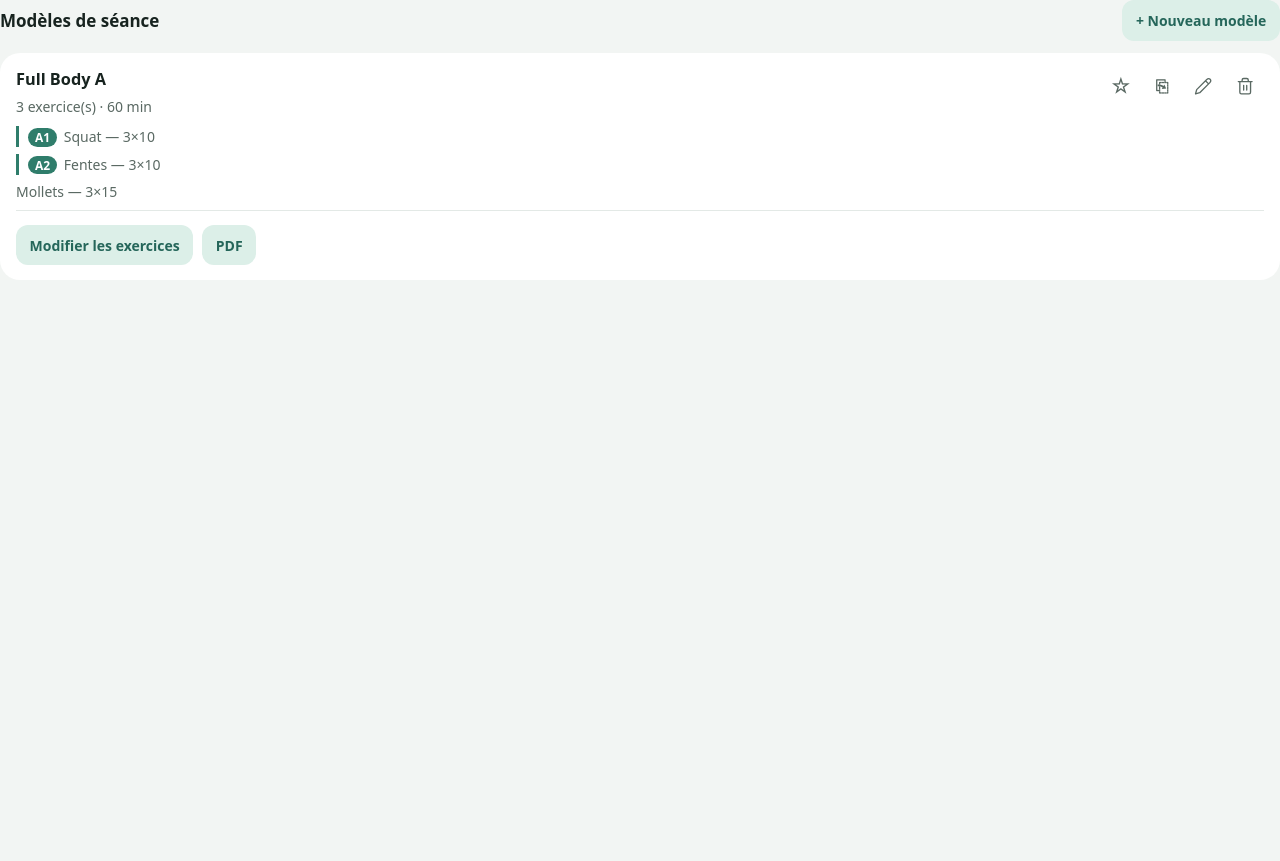
Test case: Modeles.tsx - Gestion des supersets dans l'éditeur › déplacer un exercice lié vers la dernière position réinitialise lie_suivant
Click the button named "Modifier Full Body A".
click(1204, 86)  # box x1=1185 y1=67 x2=1222 y2=105
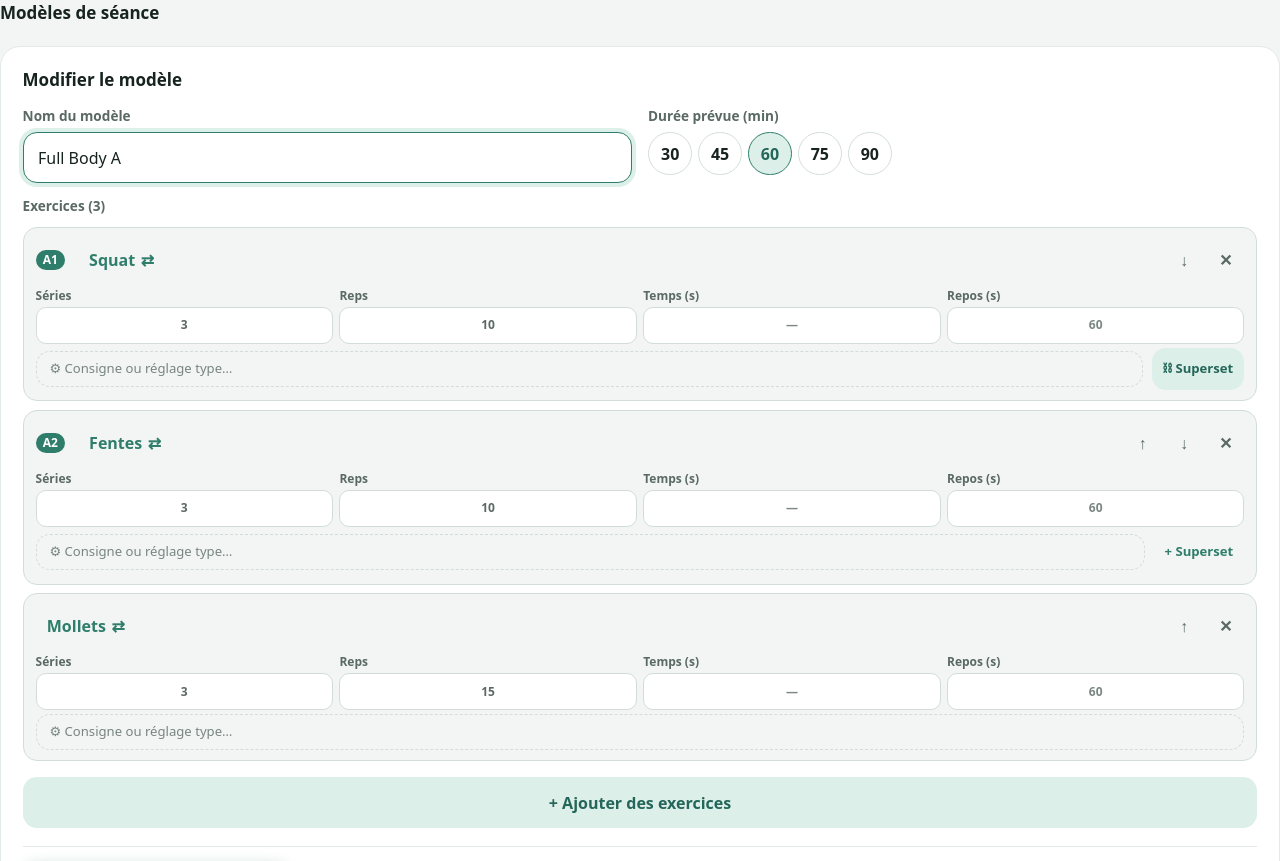
Note: Le premier bouton "Descendre" correspond à Squat (index 0)
Click the button named "Descendre".
click(1184, 260)  # box x1=1165 y1=241 x2=1203 y2=278
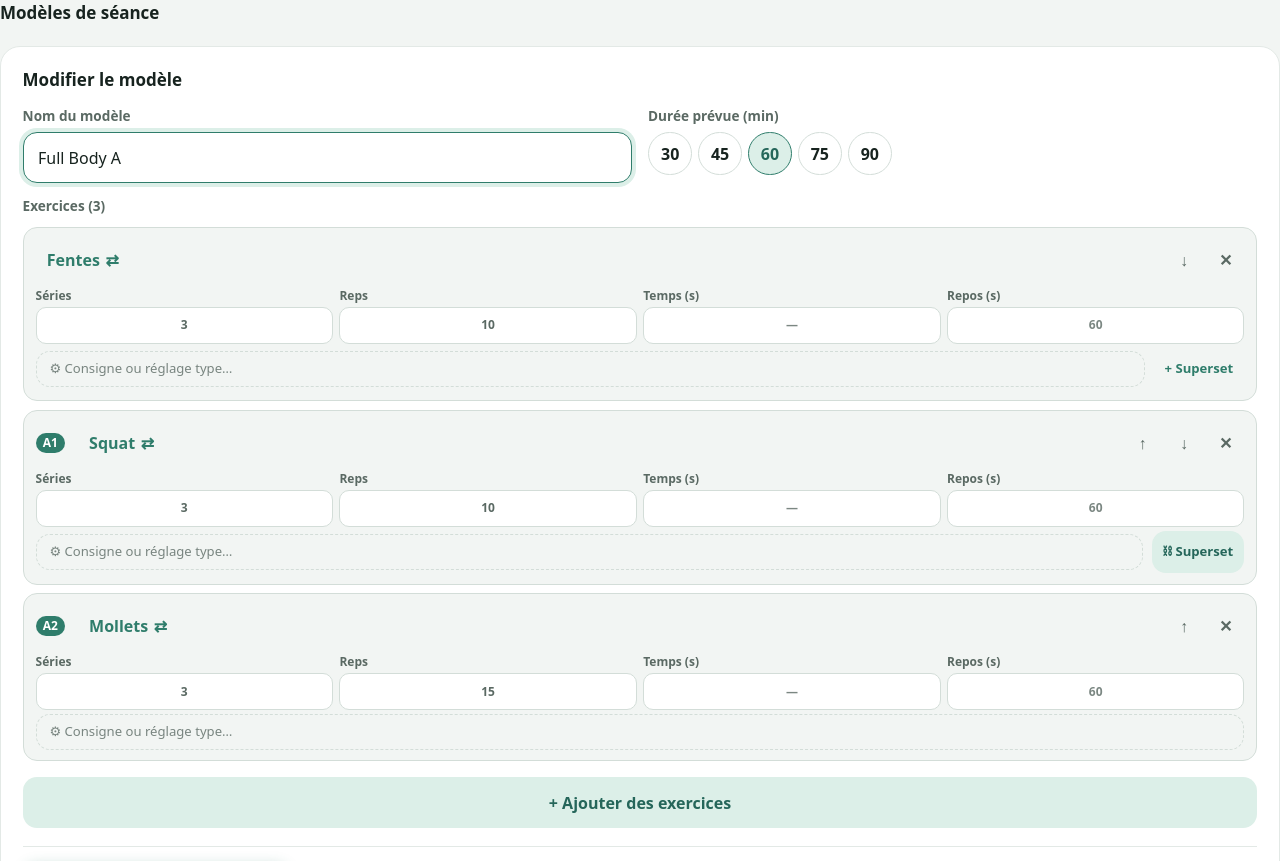
Note: À l'index 1, c'est Squat
Click the button named "Descendre".
click(1184, 443)  # box x1=1165 y1=424 x2=1203 y2=462
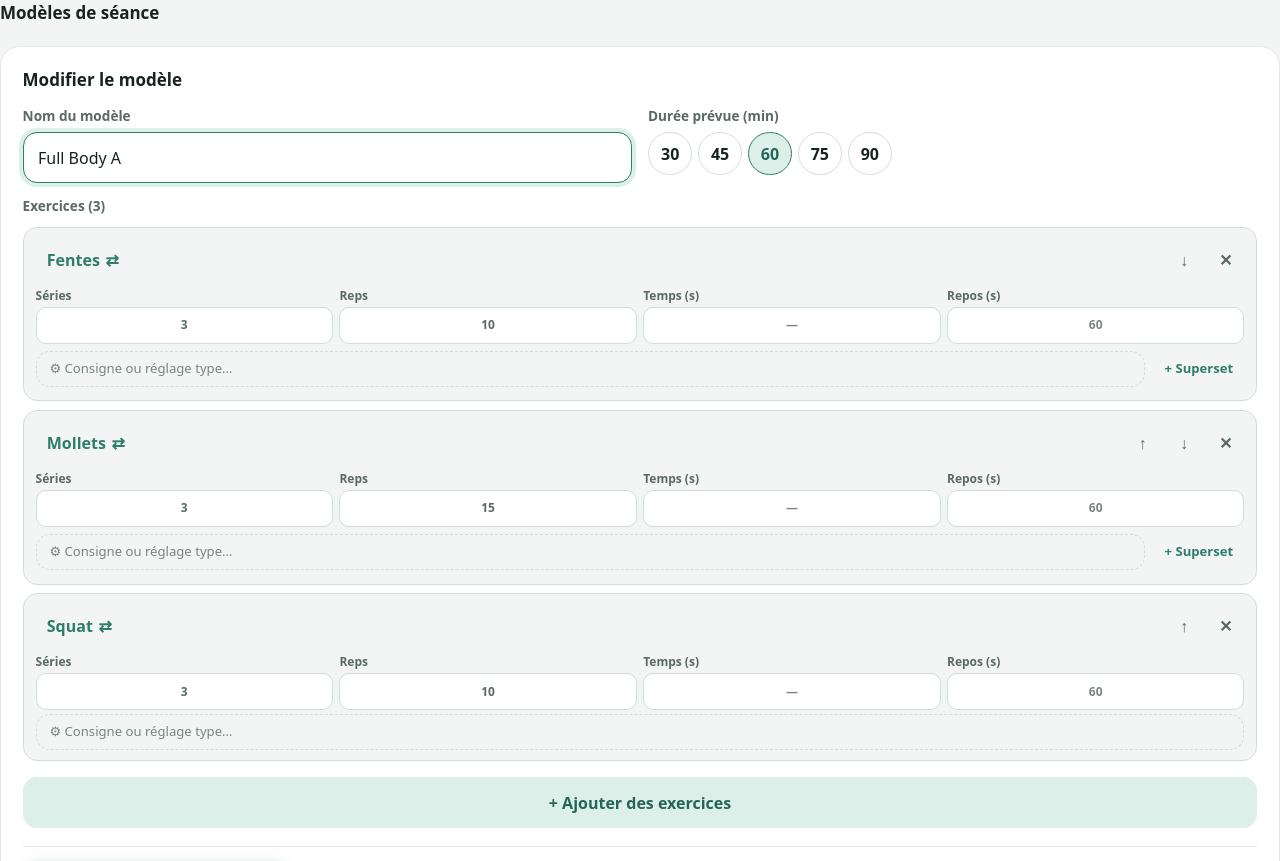
Expected: the text "A1" is not shown
Result: the button "⛓ Superset" is gone
